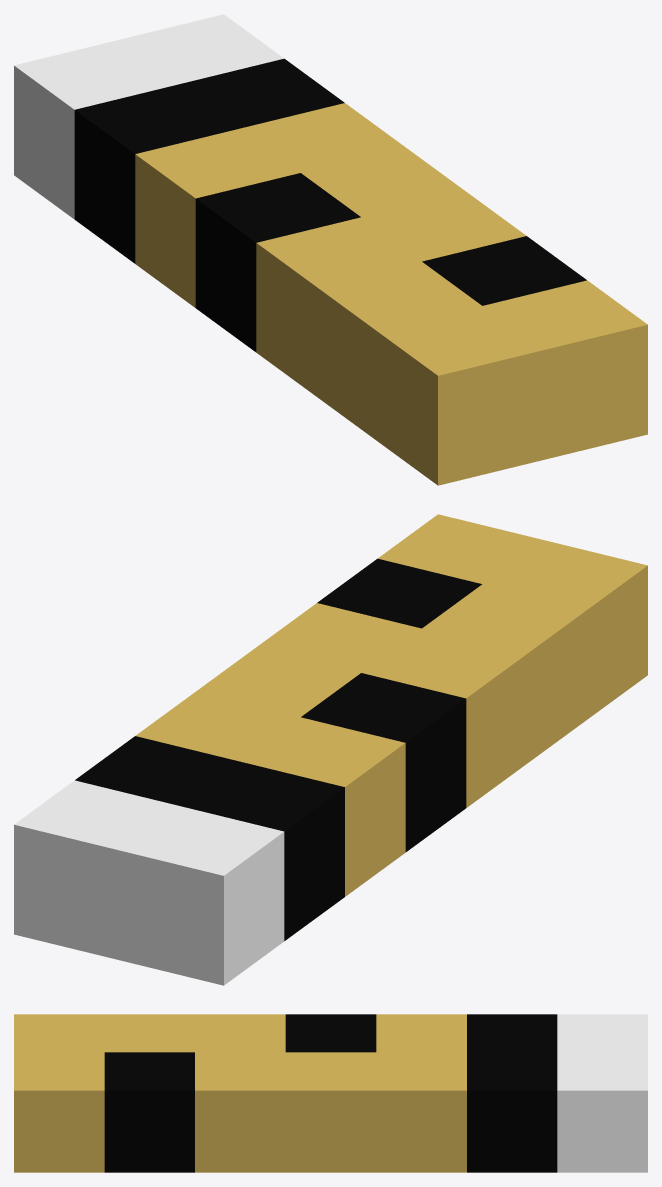
File: Player_Cheetah.vox-5.obj
3 views of the same model, one above another, from view 1: azimuth 30°, elevation 25°; view 2: azimuth 150°, elevation 25°; view 3: azimuth 270°, elevation 25° (orthographic). The views are drawn at different scales.
Bounding box in the file's own units: 0.2 × 0.1 × 0.7.
1 material, 1 textured.
